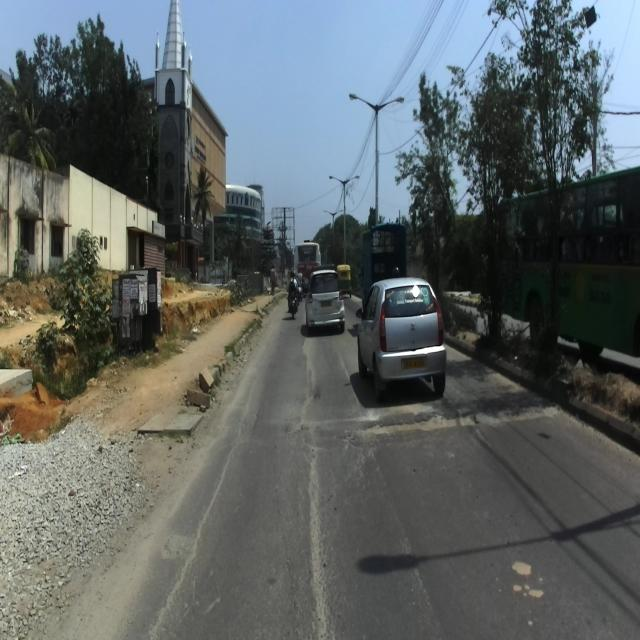bus: (488, 166, 640, 358)
car: (355, 276, 447, 401), (304, 267, 345, 334), (294, 239, 320, 285)
